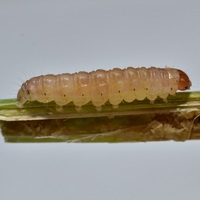insect: (17, 67, 190, 106)
